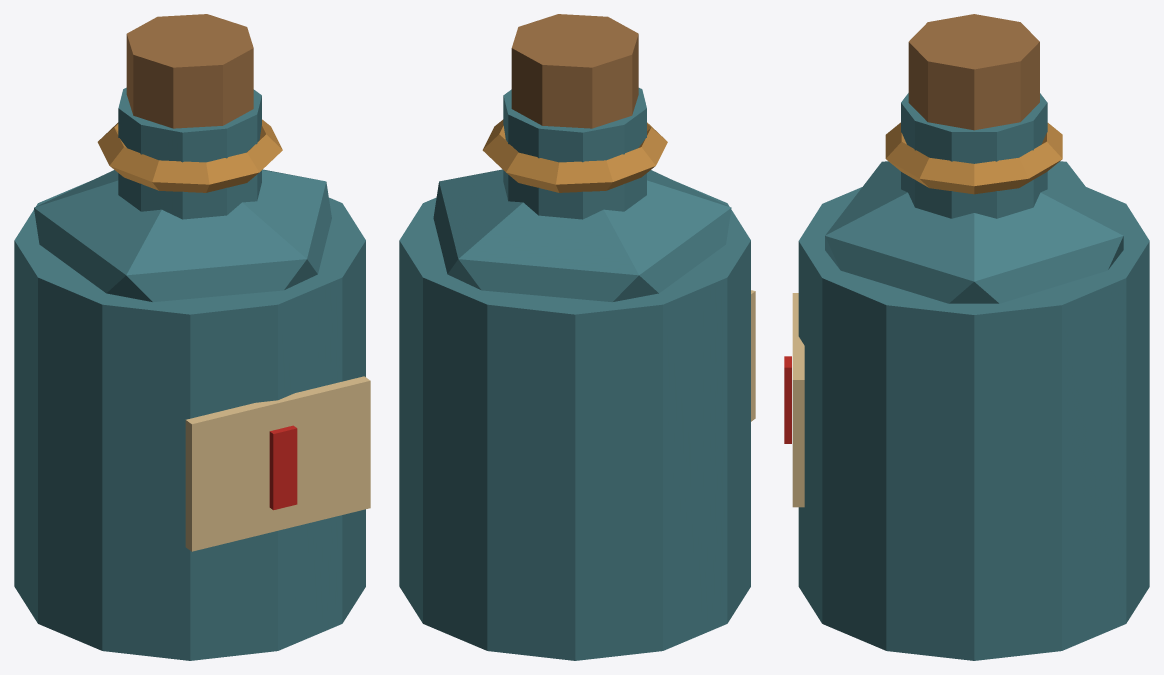
Rendered from potion_elixir.glb.
The picture shows the model from 3 angles, left to right: view 1: azimuth 30°, elevation 25°; view 2: azimuth 150°, elevation 25°; view 3: azimuth 270°, elevation 25°; orthographic projection.
Parts seen in each view (by area): view 1: BottleBody, BottleShoulder, Label, Cork, BottleNeck, NeckRing, LabelMark; view 2: BottleBody, BottleShoulder, Cork, BottleNeck, NeckRing, Label; view 3: BottleBody, BottleShoulder, Cork, BottleNeck, NeckRing, Label, LabelMark.
Part boxes in pixels (x1,y1,x2,y2): BottleBody: [14, 182, 365, 660]; BottleShoulder: [34, 169, 331, 302]; Label: [185, 376, 370, 551]; Cork: [126, 14, 253, 128]; BottleNeck: [118, 87, 261, 219]; NeckRing: [97, 119, 282, 192]; LabelMark: [269, 425, 297, 510]; BottleBody: [399, 181, 750, 660]; BottleShoulder: [433, 169, 731, 302]; Cork: [511, 14, 638, 128]; BottleNeck: [503, 88, 646, 219]; NeckRing: [482, 119, 667, 192]; Label: [751, 290, 755, 421]; BottleBody: [798, 187, 1149, 660]; BottleShoulder: [825, 161, 1123, 303]; Cork: [908, 14, 1039, 130]; BottleNeck: [901, 93, 1047, 218]; NeckRing: [885, 122, 1062, 194]; Label: [792, 293, 804, 507]; LabelMark: [784, 356, 791, 443].
Size of the model in its own units: 2.3 by 3.94 by 2.4.
